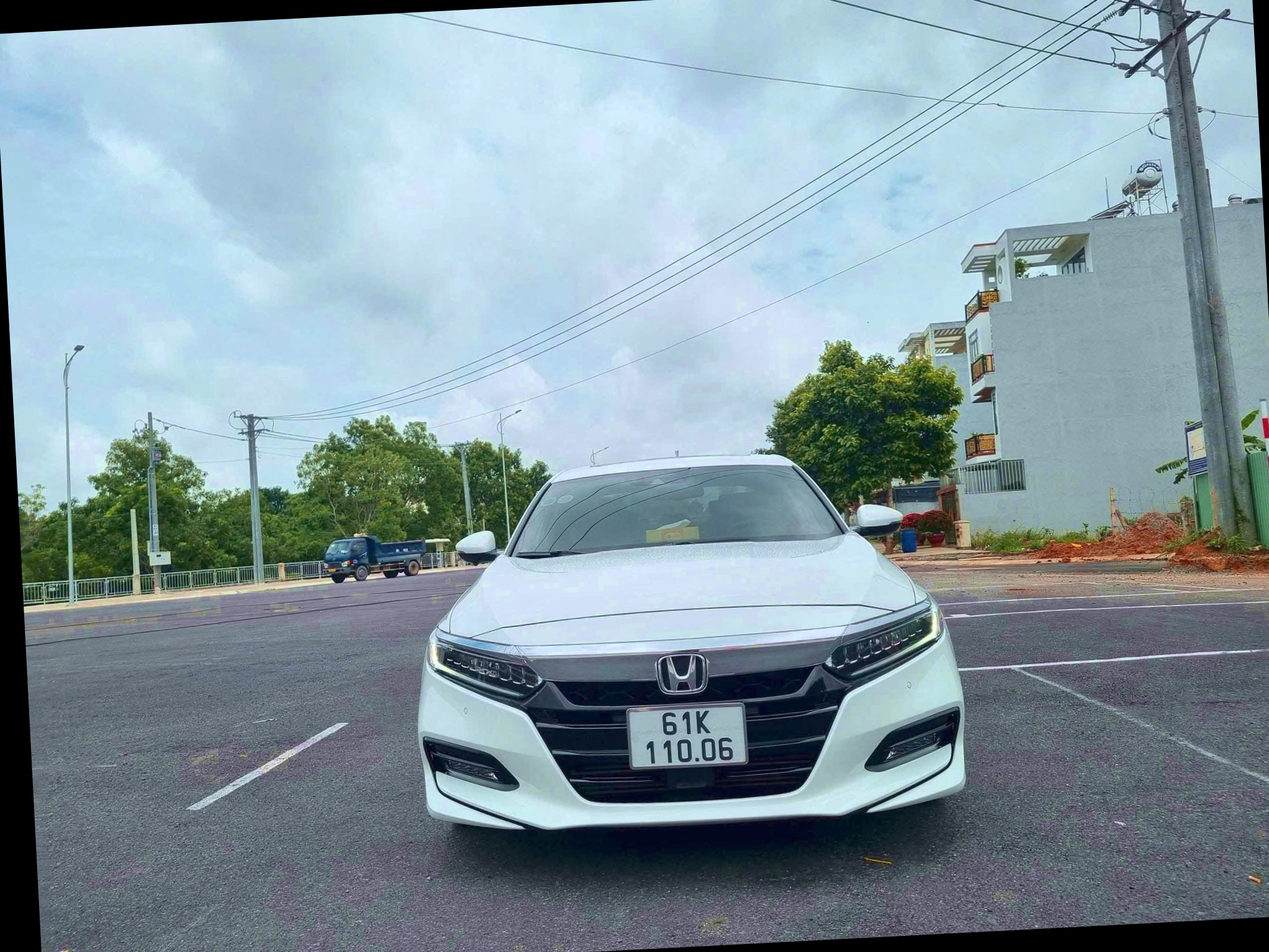Bien-so: (621, 700, 752, 773)
